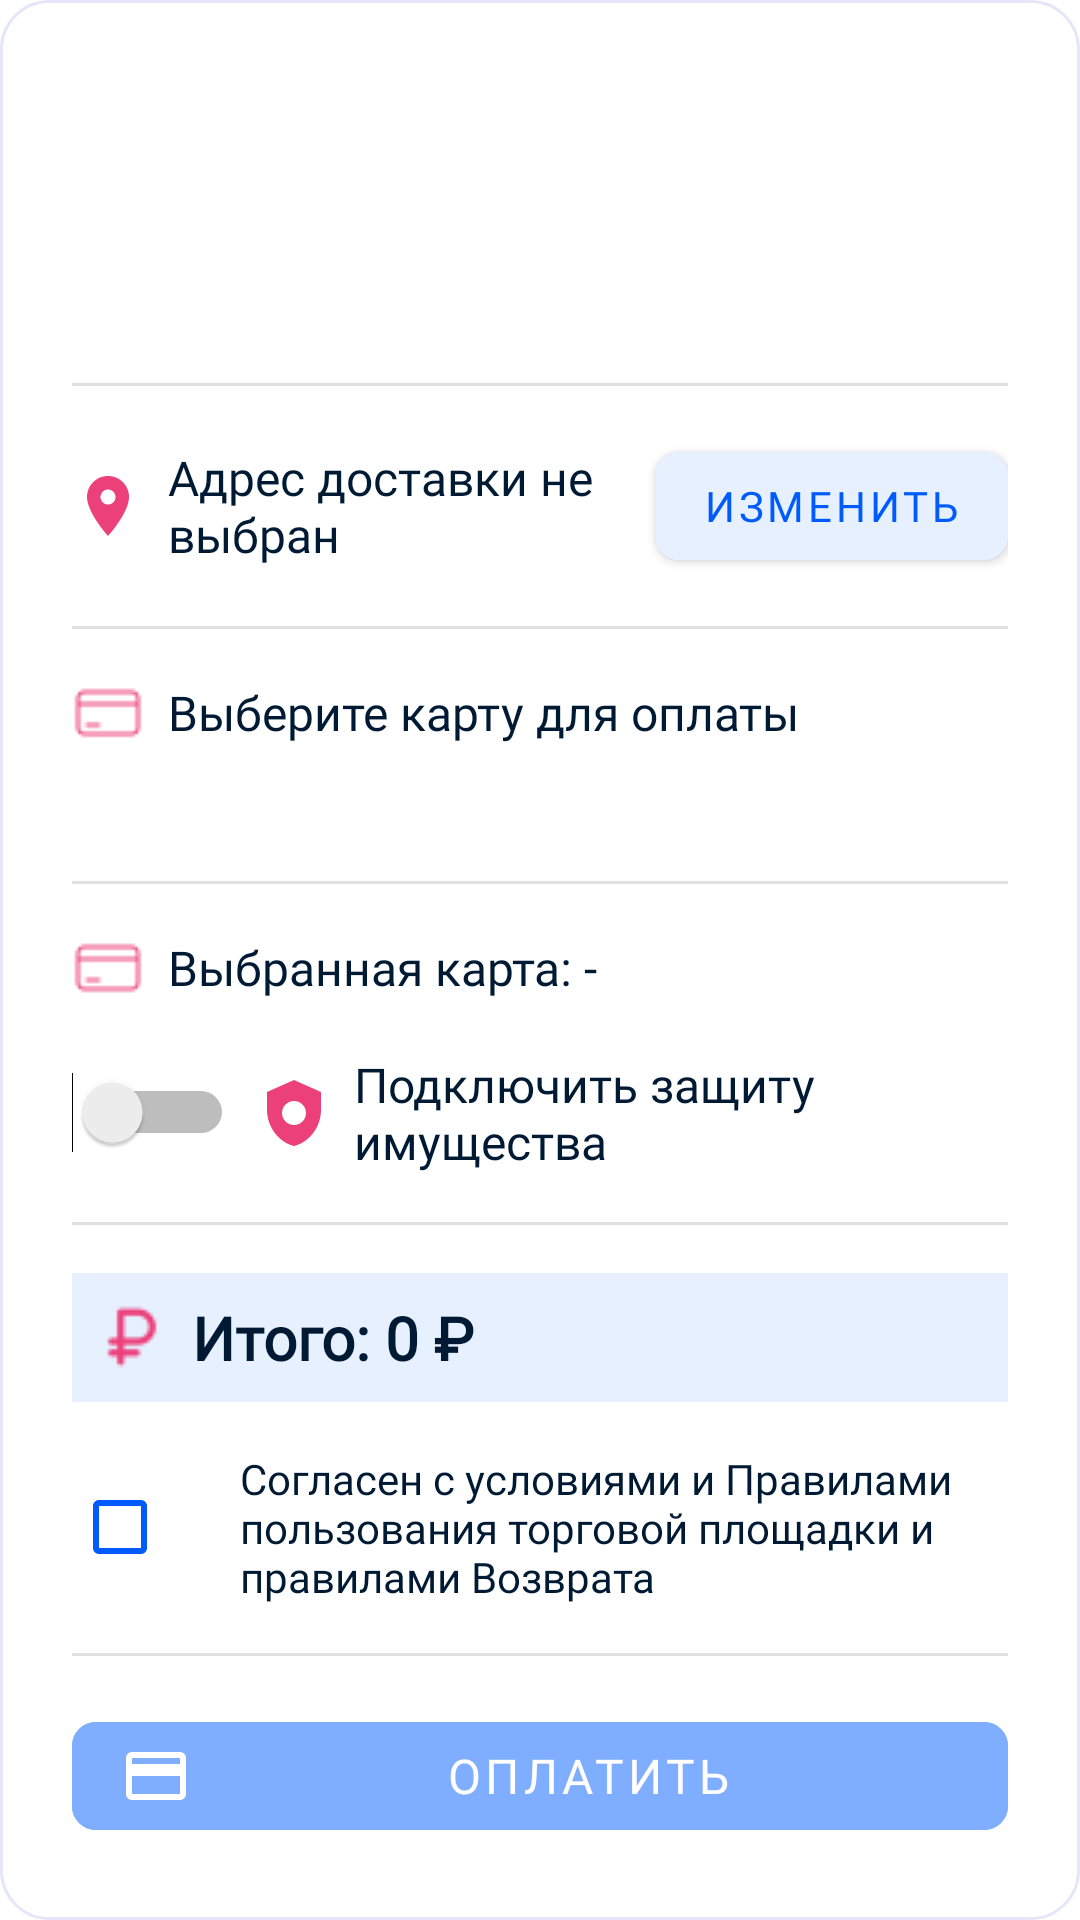

Named icons in this screenshot (1080 x 1920) and their centers, point (x, y):
address: point (108, 506)
card: point (108, 713), point (108, 968)
price: point (132, 1337)
shield: point (294, 1113)
